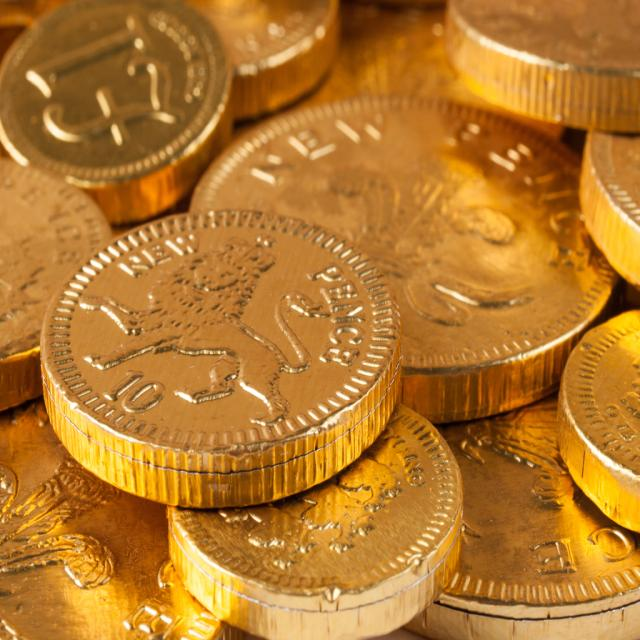Coin: (0, 0, 640, 637), (44, 206, 412, 510)
